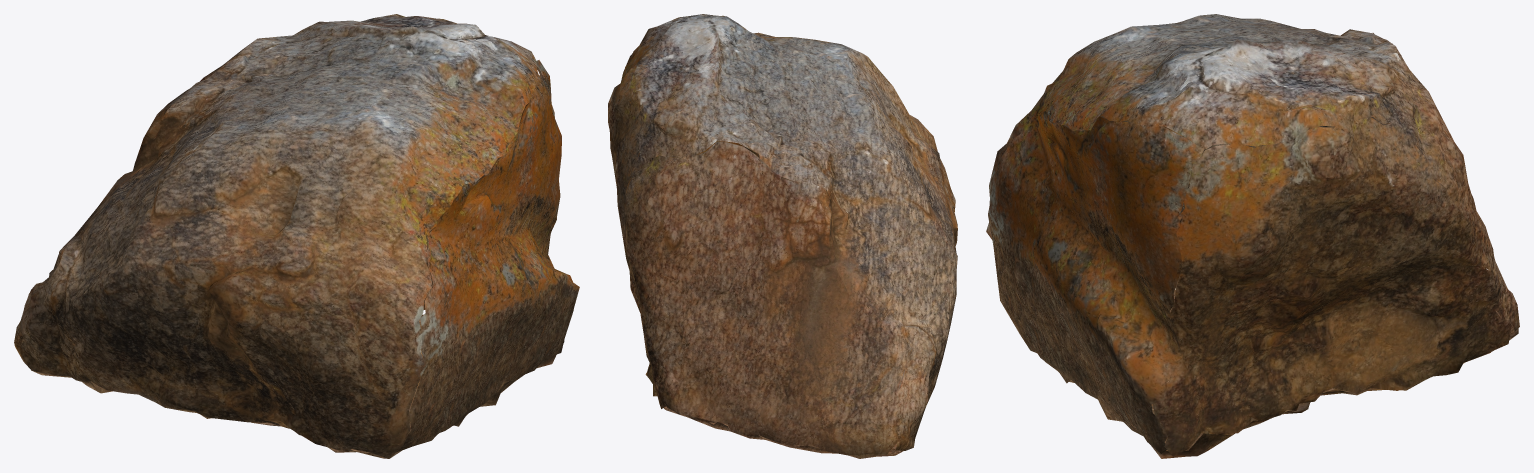
The model's file is rocha.glb.
The picture shows the model from 3 angles, left to right: view 1: azimuth 30°, elevation 25°; view 2: azimuth 150°, elevation 25°; view 3: azimuth 270°, elevation 25°; orthographic projection. The views are drawn at different scales.
Visible parts, largest first — view 1: boulder_04; view 2: boulder_04; view 3: boulder_04.
Part boxes in pixels (<box>): boulder_04: <box>14,14,579,458</box>; boulder_04: <box>608,14,957,458</box>; boulder_04: <box>986,14,1519,458</box>.
Bounding box in the file's own units: 2.52 × 1.9 × 2.5.
Materials: 1 (1 with a texture image).
